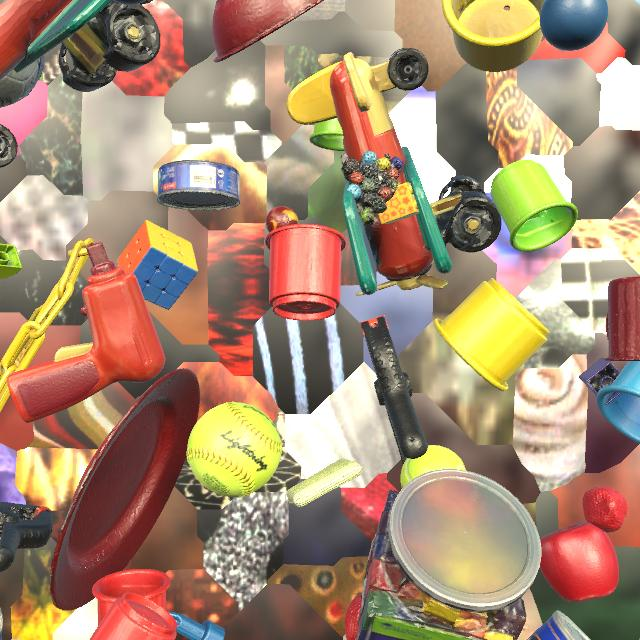ycb_002_master_chef_can: (527, 610, 591, 640), (0, 608, 3, 640)
ycb_007_tuna_fish_can: (157, 160, 240, 211)
ycb_010_potted_meat_can: (140, 0, 153, 5)
ycb_012_strawberry: (582, 486, 628, 532), (345, 594, 362, 640)
ycb_013_apple: (540, 521, 619, 602)
